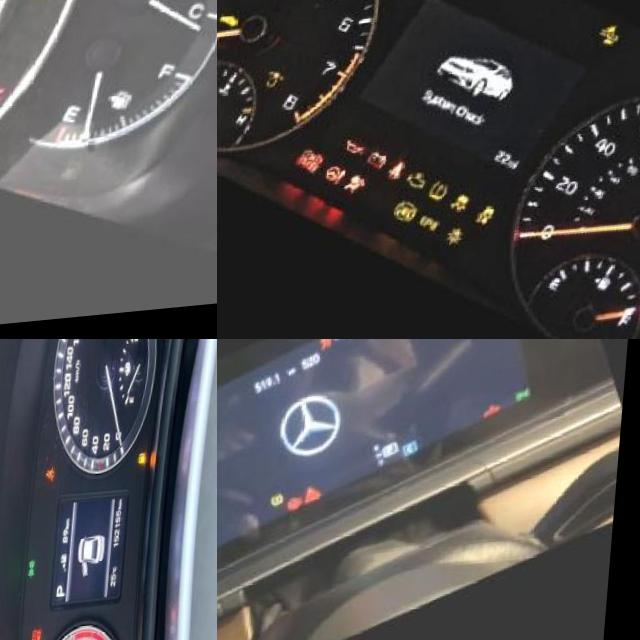High Engine Coolant Temperature: (227, 82, 244, 97)
Seat Belt: (400, 161, 423, 185), (48, 472, 60, 485)
